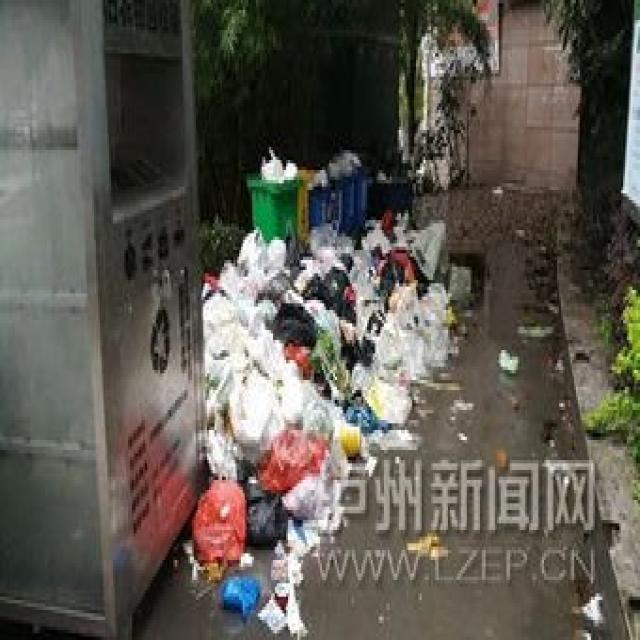garbage: (184, 206, 468, 636)
overflow: (243, 147, 297, 233), (308, 150, 358, 220)
